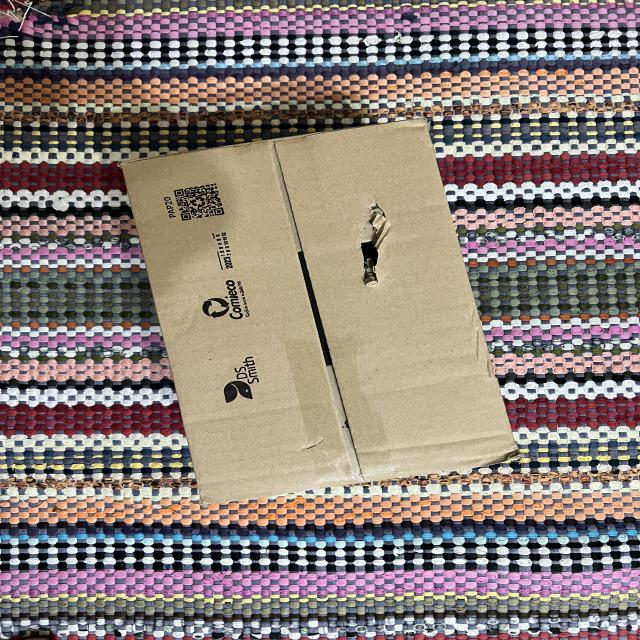damaged: (112, 110, 527, 510), (336, 195, 411, 294)
